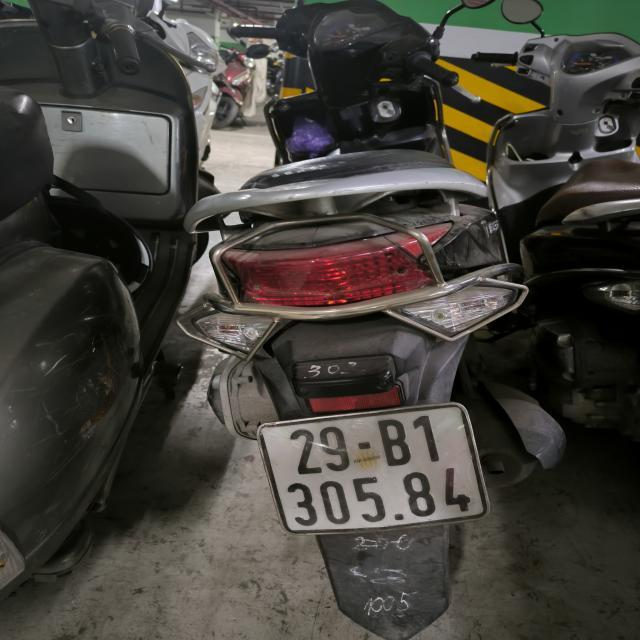license: (256, 401, 490, 534)
